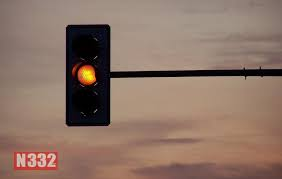amber: (63, 21, 114, 131), (72, 32, 103, 120), (75, 36, 99, 116)
